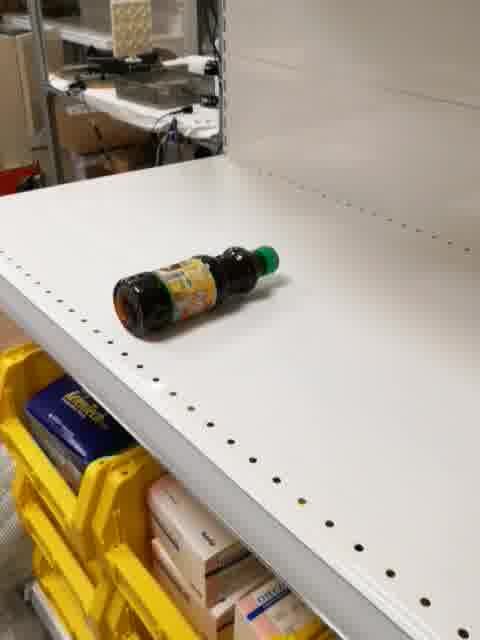cookingoil: (111, 244, 281, 341)
